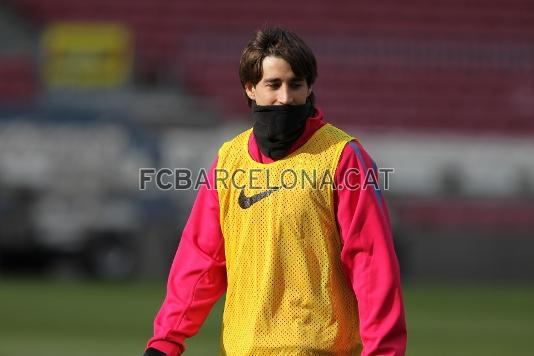WRONG: (257, 74, 310, 127)
